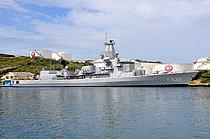MIL_Ship: (13, 32, 199, 87)
